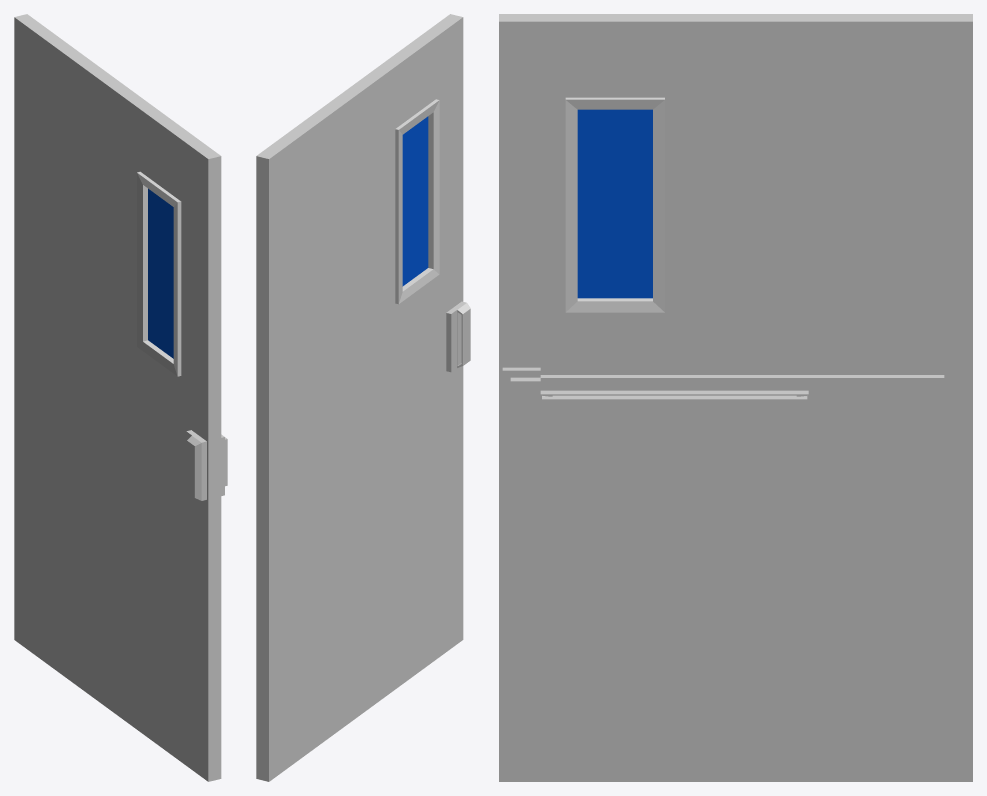
File: QSSecurityDoorSimple.fbx
The picture shows the model from 3 angles, left to right: view 1: azimuth 30°, elevation 25°; view 2: azimuth 150°, elevation 25°; view 3: azimuth 270°, elevation 25°; orthographic projection. The views are drawn at different scales.
Parts seen in each view (by area): view 1: door security; view 2: door security; view 3: door security.
Boxes of the visible parts, x1=… form: door security: x1=14, y1=14, x2=227, y2=781; door security: x1=256, y1=14, x2=470, y2=781; door security: x1=499, y1=14, x2=972, y2=781.
Bounding box in the file's own units: 4.41 × 61.33 × 34.65.
